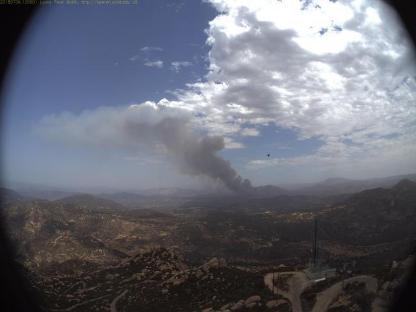smoke: (80, 106, 270, 212)
